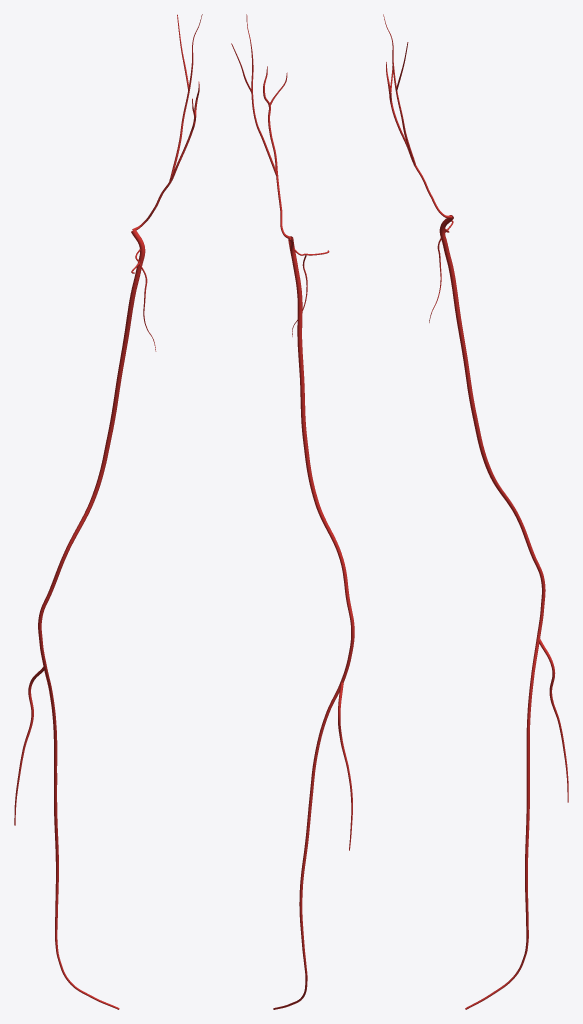
Rendered from circulatorio-great-saphenous-vein-l.glb.
3 views of the same model, side by side, from view 1: azimuth 90°, elevation 25°; view 2: azimuth 210°, elevation 25°; view 3: azimuth 270°, elevation 25° (orthographic). The views are drawn at different scales.
Parts seen in each view (by area): view 1: Great saphenous vein.l, Superficial epigastric vein.l; view 2: Great saphenous vein.l, Superficial epigastric vein.l; view 3: Great saphenous vein.l, Superficial epigastric vein.l.
Boxes of the visible parts, left/top/right/bottom form: Great saphenous vein.l: left=14, top=229, right=145, bottom=1009; Superficial epigastric vein.l: left=132, top=14, right=202, bottom=230; Great saphenous vein.l: left=273, top=236, right=354, bottom=1009; Superficial epigastric vein.l: left=231, top=14, right=291, bottom=239; Great saphenous vein.l: left=439, top=215, right=568, bottom=1009; Superficial epigastric vein.l: left=383, top=14, right=452, bottom=218.
Bounding box in the file's own units: 0.0843 × 1.01 × 0.1713.
